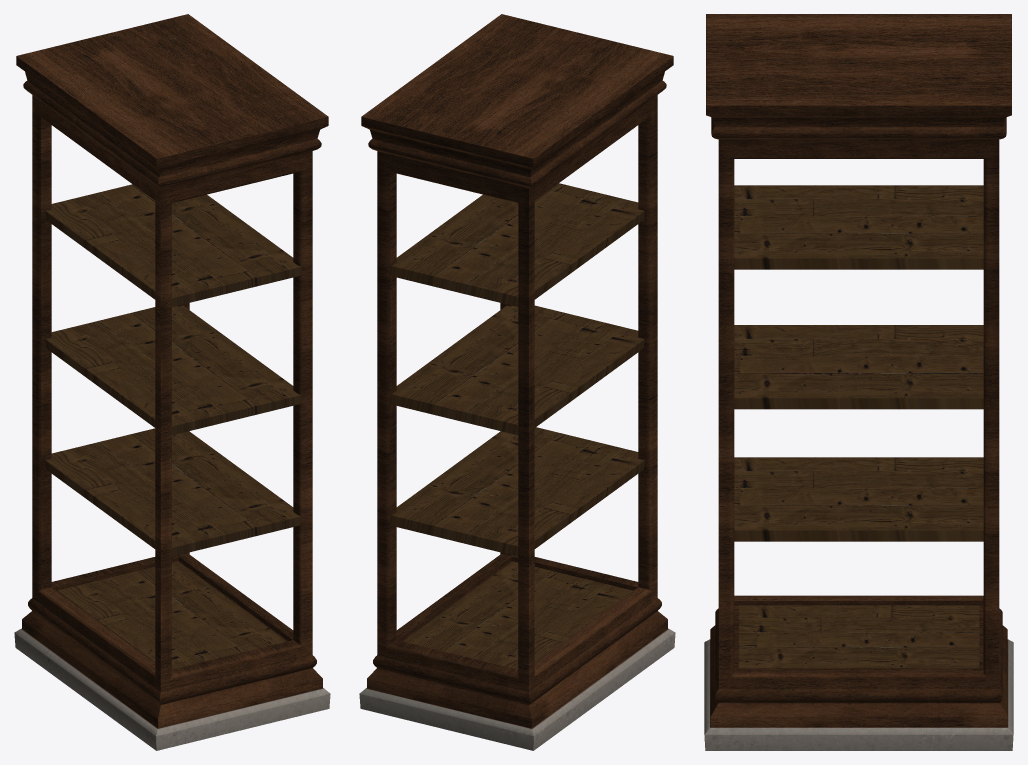
File: raf.fbx
3 views of the same model, side by side, from view 1: azimuth 30°, elevation 25°; view 2: azimuth 150°, elevation 25°; view 3: azimuth 270°, elevation 25° (orthographic). The views are drawn at different scales.
Parts seen in each view (by area): view 1: ShowcaseMittel, ShowcaseMittel.002, ShowcaseMittel.001, ShowcaseMittel.003; view 2: ShowcaseMittel, ShowcaseMittel.002, ShowcaseMittel.001, ShowcaseMittel.003; view 3: ShowcaseMittel, ShowcaseMittel.001, ShowcaseMittel.002, ShowcaseMittel.003.
Part boxes in pixels (box(x1,y1,x2,y2)): ShowcaseMittel: box(14, 14, 330, 750); ShowcaseMittel.002: box(45, 305, 302, 435); ShowcaseMittel.001: box(45, 428, 302, 556); ShowcaseMittel.003: box(45, 184, 302, 306); ShowcaseMittel: box(359, 14, 675, 750); ShowcaseMittel.002: box(389, 305, 644, 435); ShowcaseMittel.001: box(390, 427, 644, 556); ShowcaseMittel.003: box(389, 183, 644, 307); ShowcaseMittel: box(704, 14, 1013, 750); ShowcaseMittel.001: box(734, 457, 983, 541); ShowcaseMittel.002: box(734, 325, 983, 409); ShowcaseMittel.003: box(734, 185, 983, 269).
Bounding box in the file's own units: 75.33 × 244 × 106.
